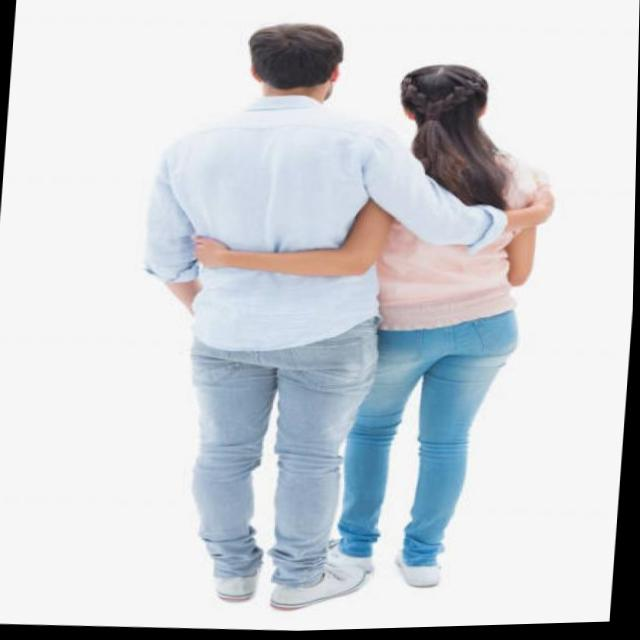no helmet: (219, 18, 365, 110), (377, 62, 504, 145)
